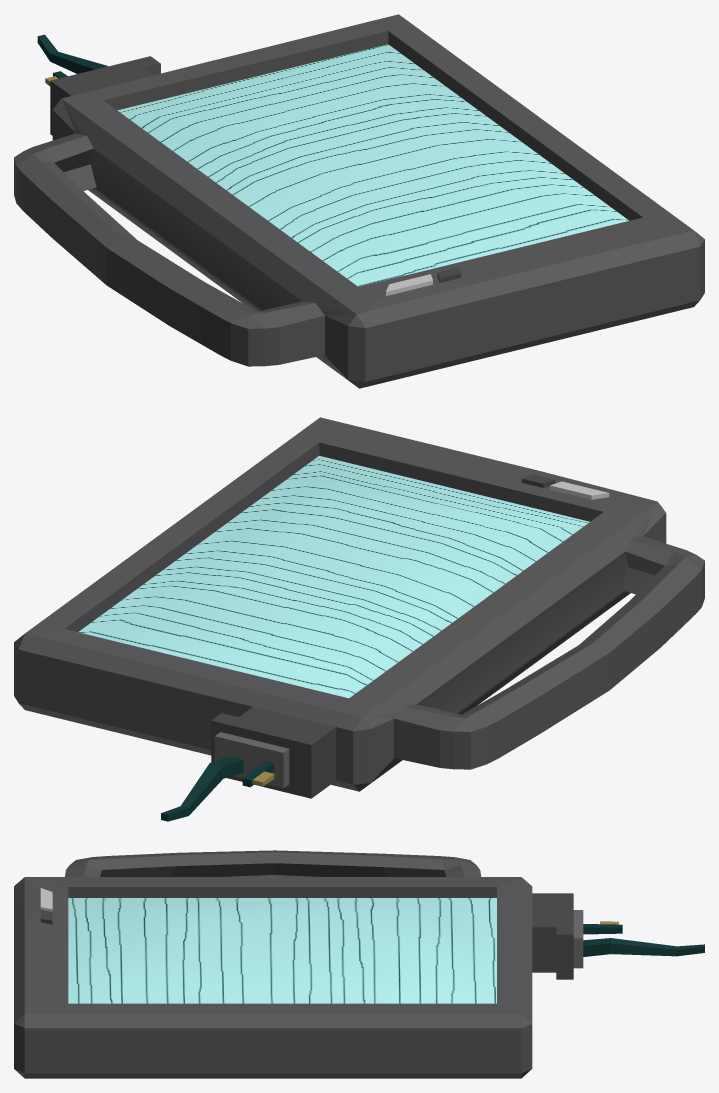
The model's file is pda_fbx.fbx.
3 renders of one model, top to bottom at view 1: azimuth 30°, elevation 25°; view 2: azimuth 150°, elevation 25°; view 3: azimuth 270°, elevation 25°, orthographic. The views are drawn at different scales.
Parts seen in each view (by area): view 1: pCube1; view 2: pCube1; view 3: pCube1.
Boxes of the visible parts, <box> form: pCube1: <box>14,14,704,388</box>; pCube1: <box>14,417,704,821</box>; pCube1: <box>14,850,704,1078</box>.
Size of the model in its own units: 79.75 by 13.79 by 126.
Materials: 7 (1 with a texture image).
